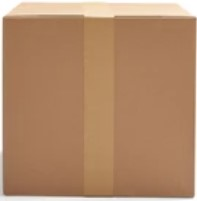stock: (3, 2, 197, 198)
